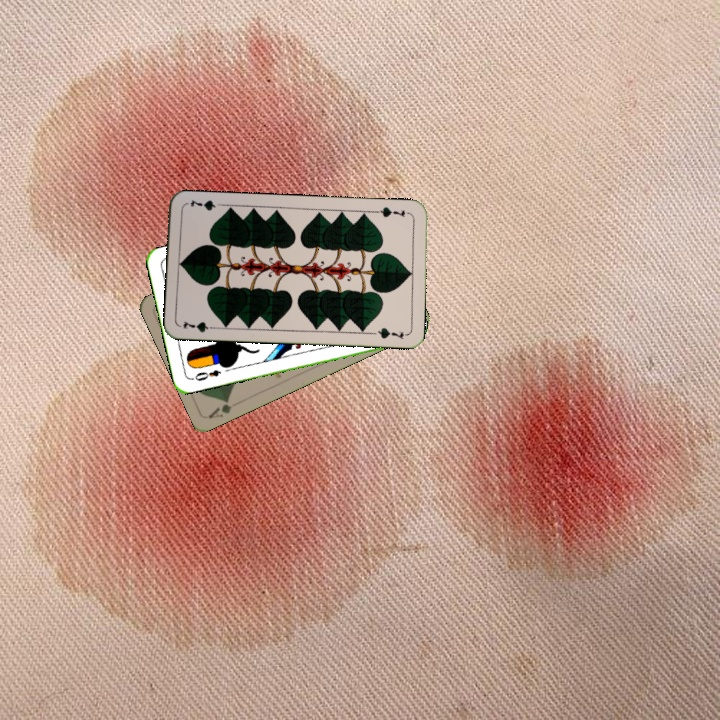EO: (188, 366, 223, 384)
G7: (179, 317, 219, 335), (372, 203, 412, 220)
GA: (205, 395, 235, 421)
